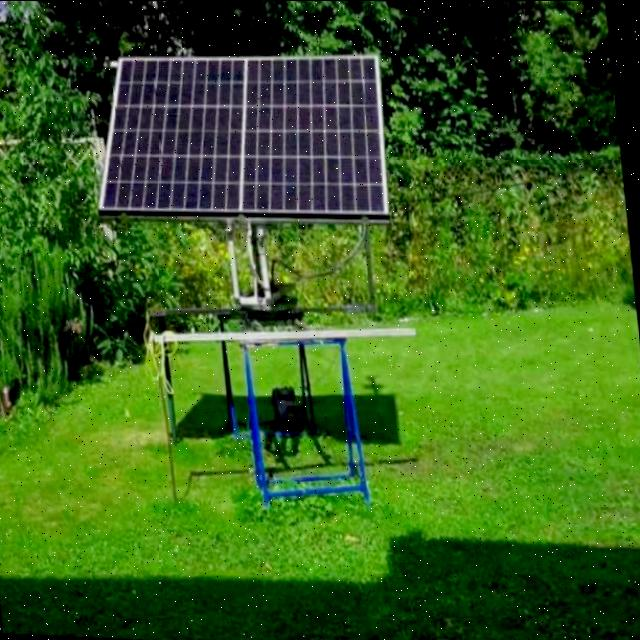Normal Solar Panel: (91, 48, 399, 238)
